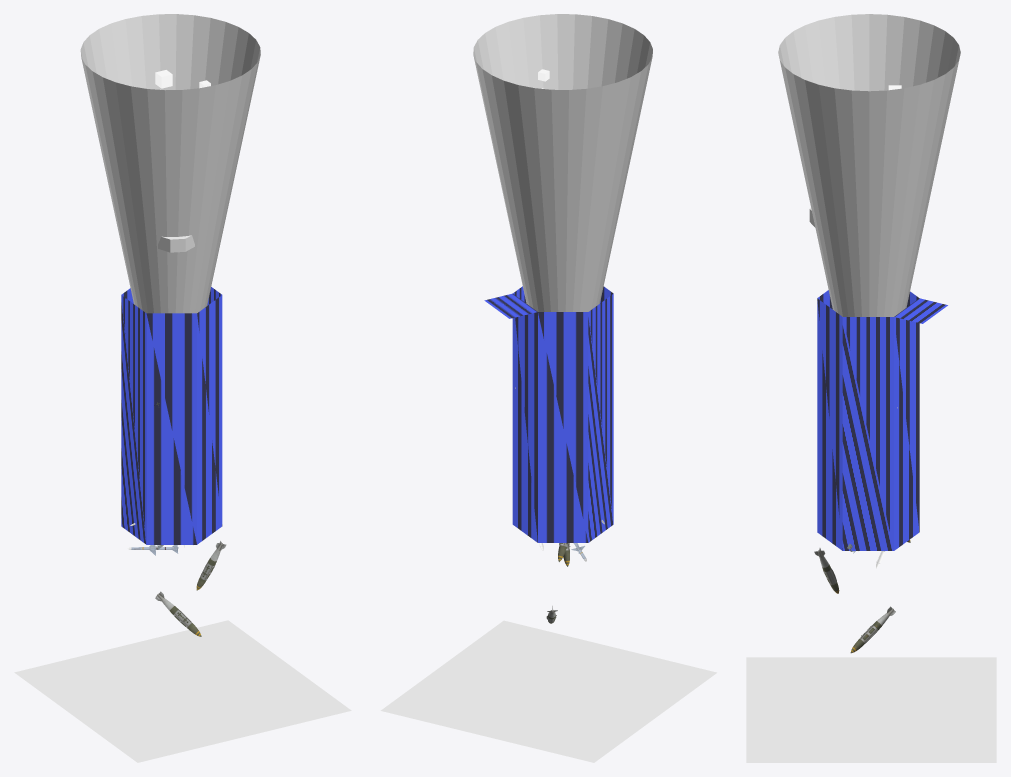
The model's file is collision-world-05.glb.
3 views of the same model, side by side, from view 1: azimuth 30°, elevation 25°; view 2: azimuth 150°, elevation 25°; view 3: azimuth 270°, elevation 25° (orthographic).
Visible parts, largest first — view 1: Cylinder.008, Plane.001, Cylinder.016; view 2: Cylinder.008, Plane.001, Cylinder.016; view 3: Cylinder.008, Plane.001, Cylinder.016, JDAM.003.
Boxes of the visible parts, <box> form: Cylinder.008: <box>80,14,260,313</box>; Plane.001: <box>14,620,351,762</box>; Cylinder.016: <box>121,287,222,544</box>; Cylinder.008: <box>473,14,652,311</box>; Plane.001: <box>380,620,716,762</box>; Cylinder.016: <box>484,286,613,542</box>; Cylinder.008: <box>778,14,960,316</box>; Plane.001: <box>746,657,996,762</box>; Cylinder.016: <box>817,290,947,550</box>; JDAM.003: <box>850,606,895,653</box>.
Bounding box in the file's own units: 57.12 × 164 × 57.12.
Materials: 14 (11 with a texture image).
